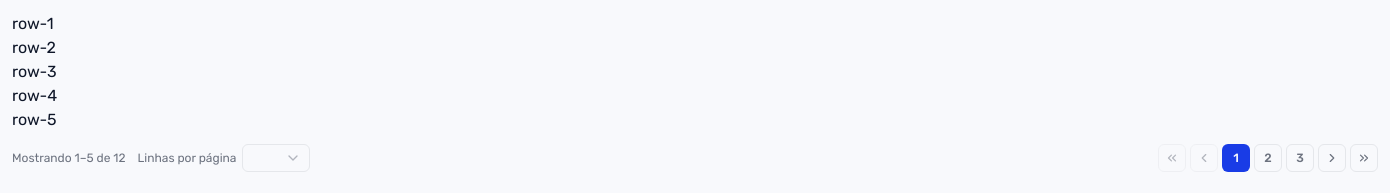
DataTablePagination › advances to the next page and updates the rows
Check: the list item "row-1" is shown, box [12,14,54,33]
Click the button named "Próxima página" at [1332, 158], box [1318,144,1346,172]
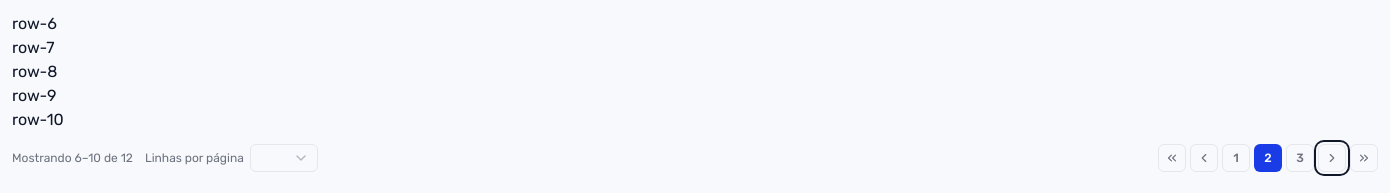
Check: the text "Mostrando 6–10 de 12" is shown, box [12,150,133,166]
Check: the list item "row-6" is shown, box [12,14,57,33]
